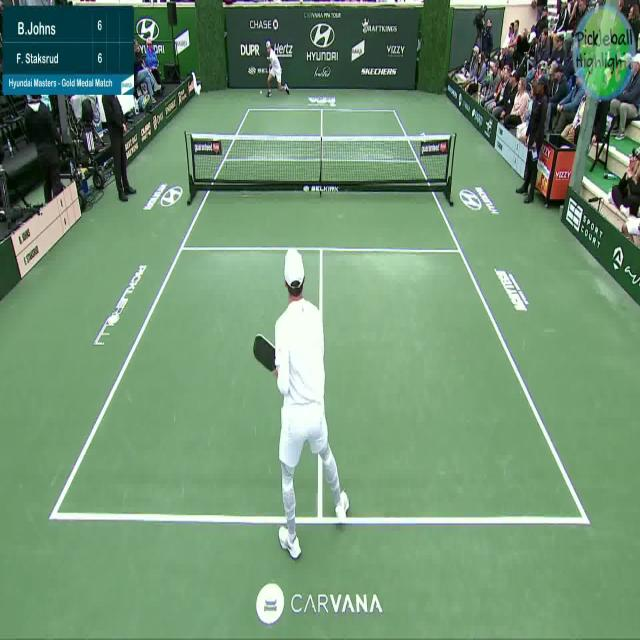ball: (259, 88, 263, 96)
